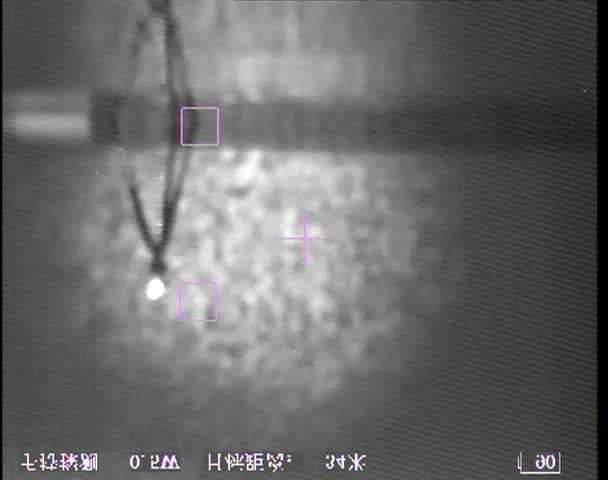my: (145, 275, 168, 301)
